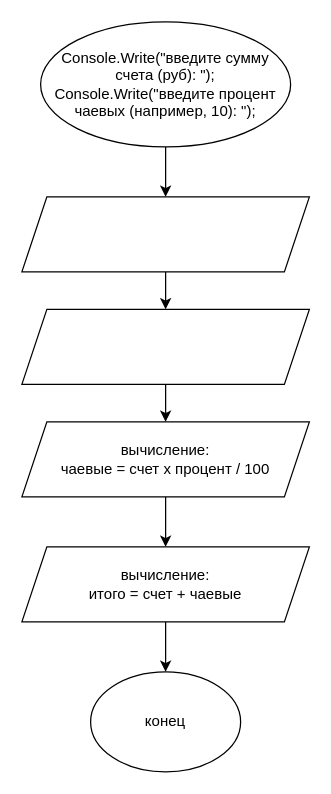
The diagram is 331 pixels wide and 794 high, and some of its shapes have lost their labels. Each missing label, with the centre of its shape:
ввод: процент чаевых: (165,346)
ввод: сумма счета: (165,234)
